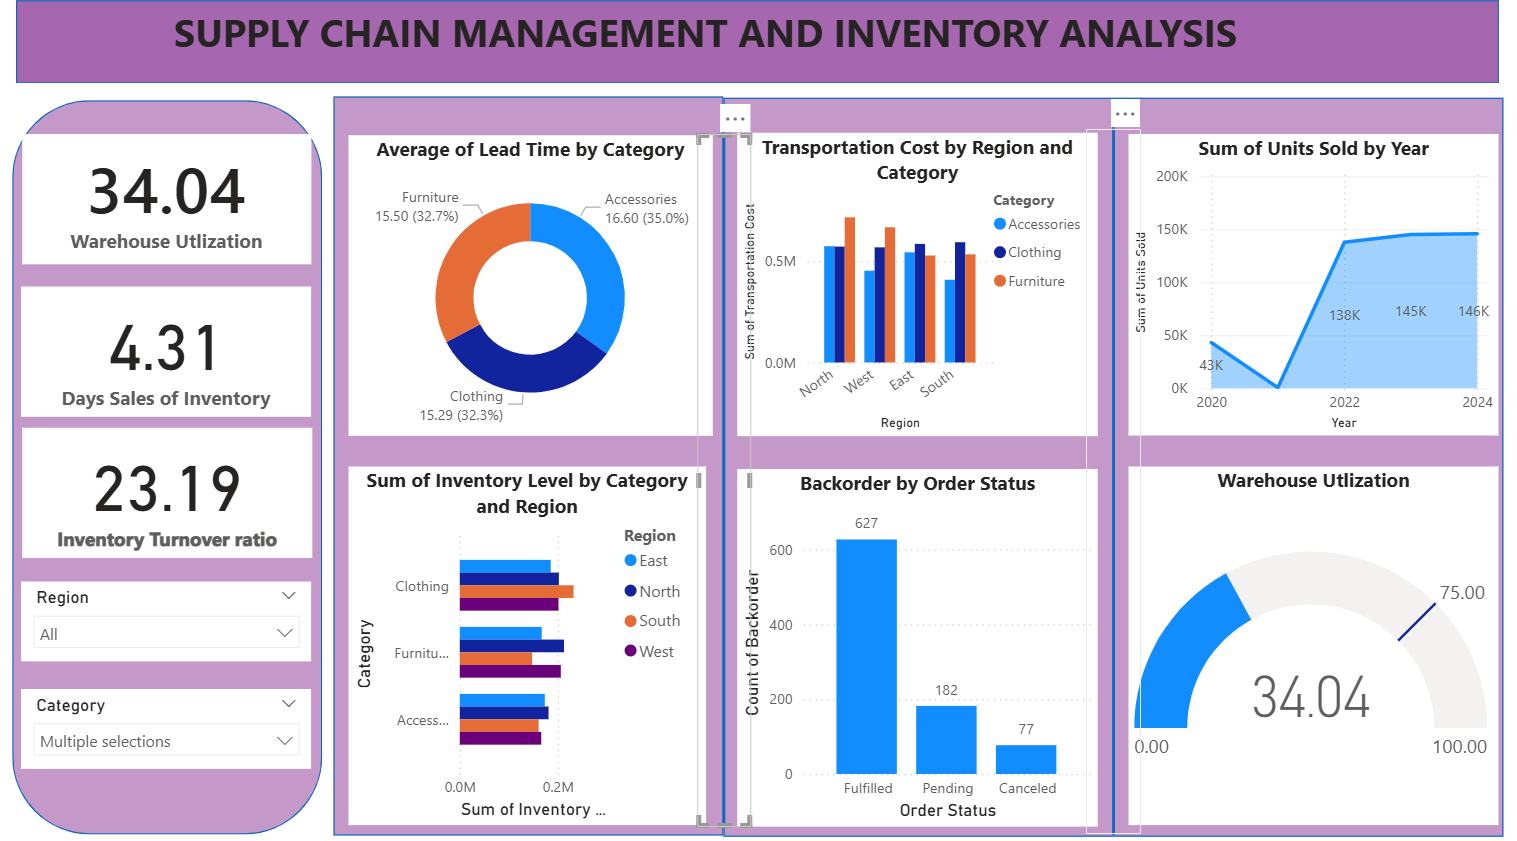

The dashboard page shown, as its layout file describes it:
{"tool":"powerbi","page":{"name":"Page 1","canvas":[1280,720],"ordinal":0},"visuals":[{"type":"shape","box":[16.5,9.6,1247.3,70],"z":0},{"type":"textbox","box":[104.3,9.6,985.3,108.4],"z":1000},{"type":"shape","box":[13.7,93.3,260.7,617.5],"z":2000},{"type":"card","fields":{"Values":["Inventory.Warehouse Utlization"]},"box":[22,122.1,242.9,109.8],"z":3000},{"type":"card","fields":{"Values":["Inventory.Days sale sof Inventory"]},"box":[20.6,249.7,244.3,109.8],"z":4000},{"type":"card","fields":{"Values":["Inventory.Inventory Turnover ratio"]},"box":[22,369.1,244.3,109.8],"z":5000},{"type":"slicer","fields":{"Values":["Inventory.Region"]},"box":[20.6,498.1,244.3,67.2],"z":6000},{"type":"slicer","fields":{"Values":["Inventory.Category"]},"box":[20.6,588.7,244.3,67.2],"z":7000},{"type":"shape","box":[284,90.6,328,621.6],"z":8000},{"type":"donutChart","fields":{"Y":["Avg(Inventory.Lead Time)"],"Series":["Inventory.Category"]},"box":[296.4,123.5,306,252.5],"z":9000},{"type":"shape","box":[612,91.9,328,621.6],"z":10000},{"type":"clusteredColumnChart","title":"Backorder by Order Status","fields":{"Category":["Inventory.Order Status"],"Y":["CountNonNull(Inventory.Backorder)"]},"box":[623,403.4,303.3,300.5],"z":11000},{"type":"clusteredBarChart","fields":{"Y":["Sum(Inventory.Inventory Level)"],"Category":["Inventory.Category"],"Series":["Inventory.Region"]},"box":[296.4,402.1,300.5,301.9],"z":12000},{"type":"clusteredColumnChart","title":"Transportation Cost by Region and Category","fields":{"Y":["Sum(Inventory.Transportation Cost)"],"Category":["Inventory.Region"],"Series":["Inventory.Category"]},"box":[623,120.8,303.3,255.2],"z":13000},{"type":"shape","box":[940,91.9,328,621.6],"z":14000},{"type":"stackedAreaChart","fields":{"Y":["Sum(Inventory.Units Sold)"],"Category":["Inventory.Date.Variation.Date Hierarchy.Year"]},"box":[952.3,122.1,311.5,253.9],"z":15000},{"type":"gauge","title":"Warehouse Utlization","fields":{"Y":["Inventory.Warehouse Utlization"]},"box":[952.3,402.1,311.5,301.9],"z":16000},{"type":"shape","box":[590.1,122.1,45.3,581.8],"z":17000},{"type":"shape","box":[916.6,118,46.7,592.8],"z":18000}]}

Visuals, with their boxes in screenshot pixels (x1, y1, x2, y2), scaled from the page's 1280x720 canvas onto the 1517x841 screenshot:
shape: 20, 11, 1498, 93
textbox: 124, 11, 1291, 138
shape: 16, 109, 325, 830
card - Inventory.Warehouse Utlization: 26, 143, 314, 271
card - Inventory.Days sale sof Inventory: 24, 292, 314, 420
card - Inventory.Inventory Turnover ratio: 26, 431, 316, 559
slicer - Inventory.Region: 24, 582, 314, 660
slicer - Inventory.Category: 24, 688, 314, 766
shape: 337, 106, 725, 832
donutChart - Avg(Inventory.Lead Time) x Inventory.Category: 351, 144, 714, 439
shape: 725, 107, 1114, 833
"Backorder by Order Status" clusteredColumnChart: 738, 471, 1098, 822
clusteredBarChart - Sum(Inventory.Inventory Level) x Inventory.Category: 351, 470, 707, 822
"Transportation Cost by Region and Category" clusteredColumnChart: 738, 141, 1098, 439
shape: 1114, 107, 1503, 833
stackedAreaChart - Sum(Inventory.Units Sold) x Inventory.Date.Variation.Date Hierarchy.Year: 1129, 143, 1498, 439
"Warehouse Utlization" gauge: 1129, 470, 1498, 822
shape: 699, 143, 753, 822
shape: 1086, 138, 1142, 830
